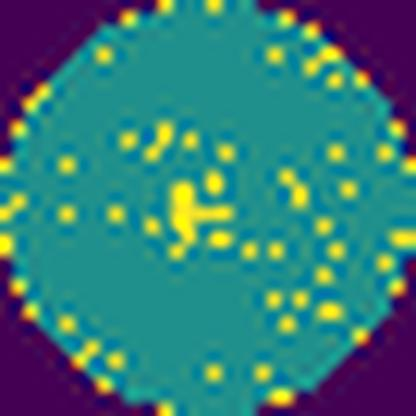Center: (160, 178, 232, 260)
